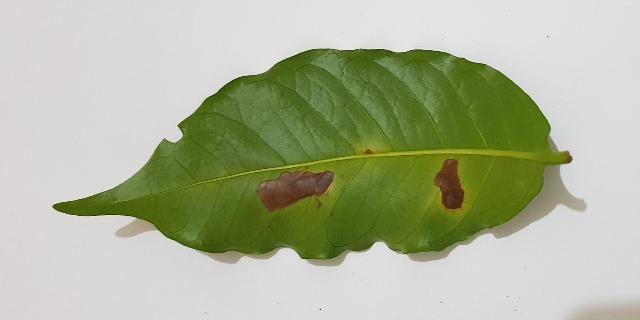cercospora: (257, 171, 334, 211), (433, 159, 466, 211), (364, 149, 372, 154)
